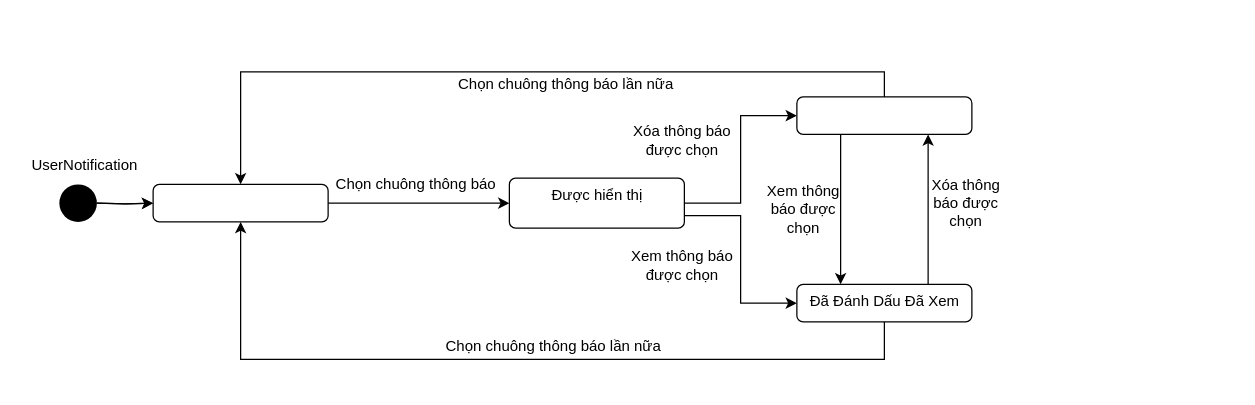
The diagram is 1255 pixels wide and 405 high, and some of its shapes have lost their labels. Here are the shapes that lost their labels. From the top down, the centre of each, then its label:
(x=884, y=115): Đã xóa
(x=240, y=202): Chưa hiển thị
